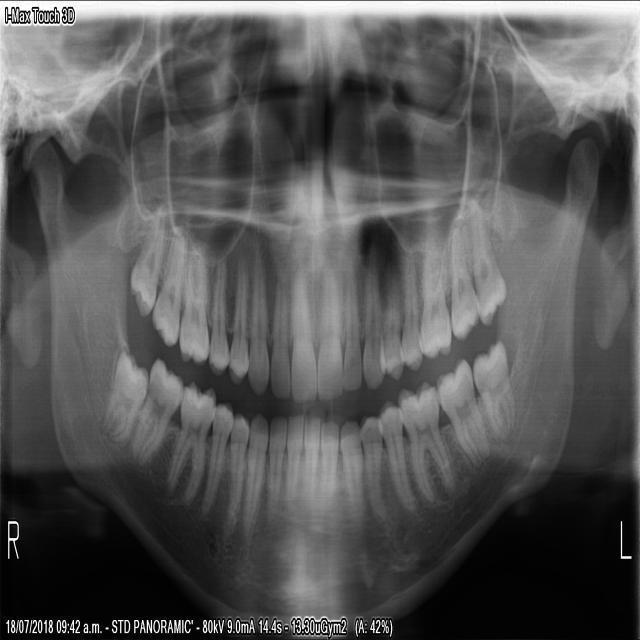LCD: (338, 413, 366, 528)
LCU: (361, 240, 385, 391)
LID: (299, 407, 322, 519), (318, 412, 339, 520)
LIU: (314, 252, 342, 409), (341, 255, 361, 395)
LMD: (393, 374, 457, 509), (435, 354, 491, 469), (468, 330, 518, 451)
LMU: (417, 226, 454, 360), (467, 212, 507, 331), (447, 217, 480, 339)
LPMD: (375, 397, 419, 514), (358, 410, 386, 525)
LPMU: (378, 239, 406, 386), (398, 240, 424, 375)
RCD: (238, 407, 268, 551)
RCU: (246, 241, 269, 399)
RID: (261, 405, 287, 527), (280, 407, 303, 517)
RIU: (288, 256, 320, 405), (269, 264, 291, 406)
RMD: (161, 376, 218, 507), (125, 353, 186, 475), (94, 335, 148, 447)
RMU: (125, 191, 168, 327), (149, 217, 187, 354), (175, 231, 210, 369)
RPMD: (193, 395, 235, 517), (218, 407, 248, 547)
RPMU: (226, 240, 249, 390), (206, 251, 228, 376)
